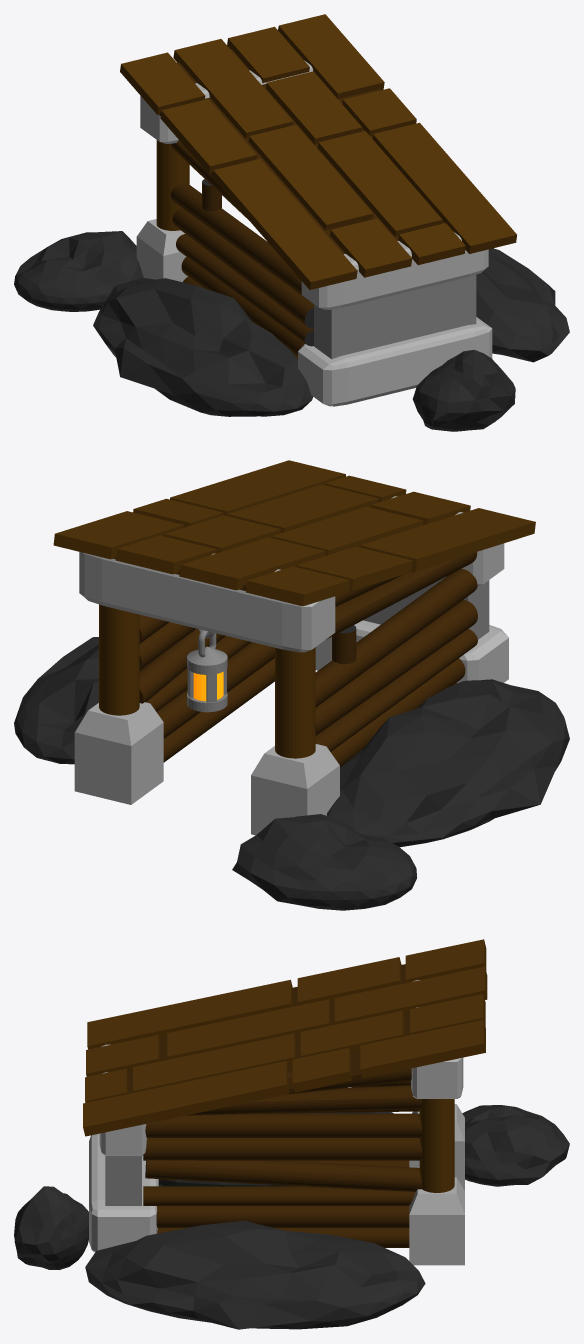
File: mina1.fbx
3 renders of one model, top to bottom at view 1: azimuth 30°, elevation 25°; view 2: azimuth 150°, elevation 25°; view 3: azimuth 270°, elevation 25°, orthographic. The views are drawn at different scales.
Visible parts, largest first — view 1: Icosphere.003; view 2: Icosphere.003; view 3: Icosphere.003.
Boxes of the visible parts, bbox=[...] form: Icosphere.003: bbox=[14, 14, 569, 431]; Icosphere.003: bbox=[14, 460, 569, 910]; Icosphere.003: bbox=[14, 939, 569, 1329].
Bounding box in the file's own units: 1436 × 821 × 1597.
